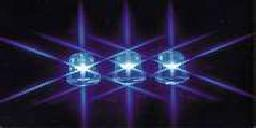LED: (60, 48, 103, 128), (110, 48, 152, 128), (155, 44, 193, 128)
